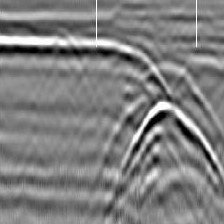Utility: (98, 58, 224, 213)
